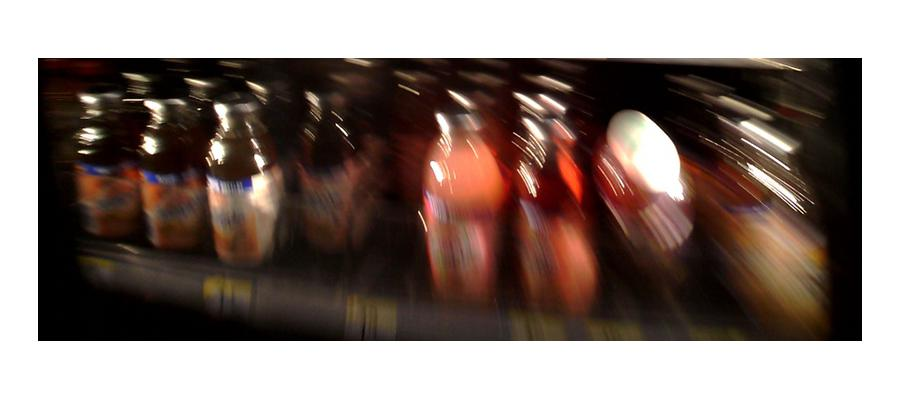bottle: (511, 97, 601, 332), (601, 100, 699, 304), (418, 100, 506, 310), (287, 82, 381, 265), (204, 97, 274, 268), (138, 95, 206, 255), (74, 104, 138, 246)
